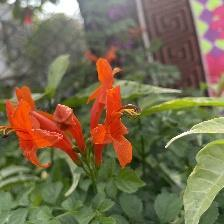honeysuckle: (87, 57, 146, 175)
